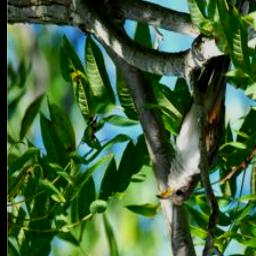Cuckoo: (157, 56, 232, 207)
